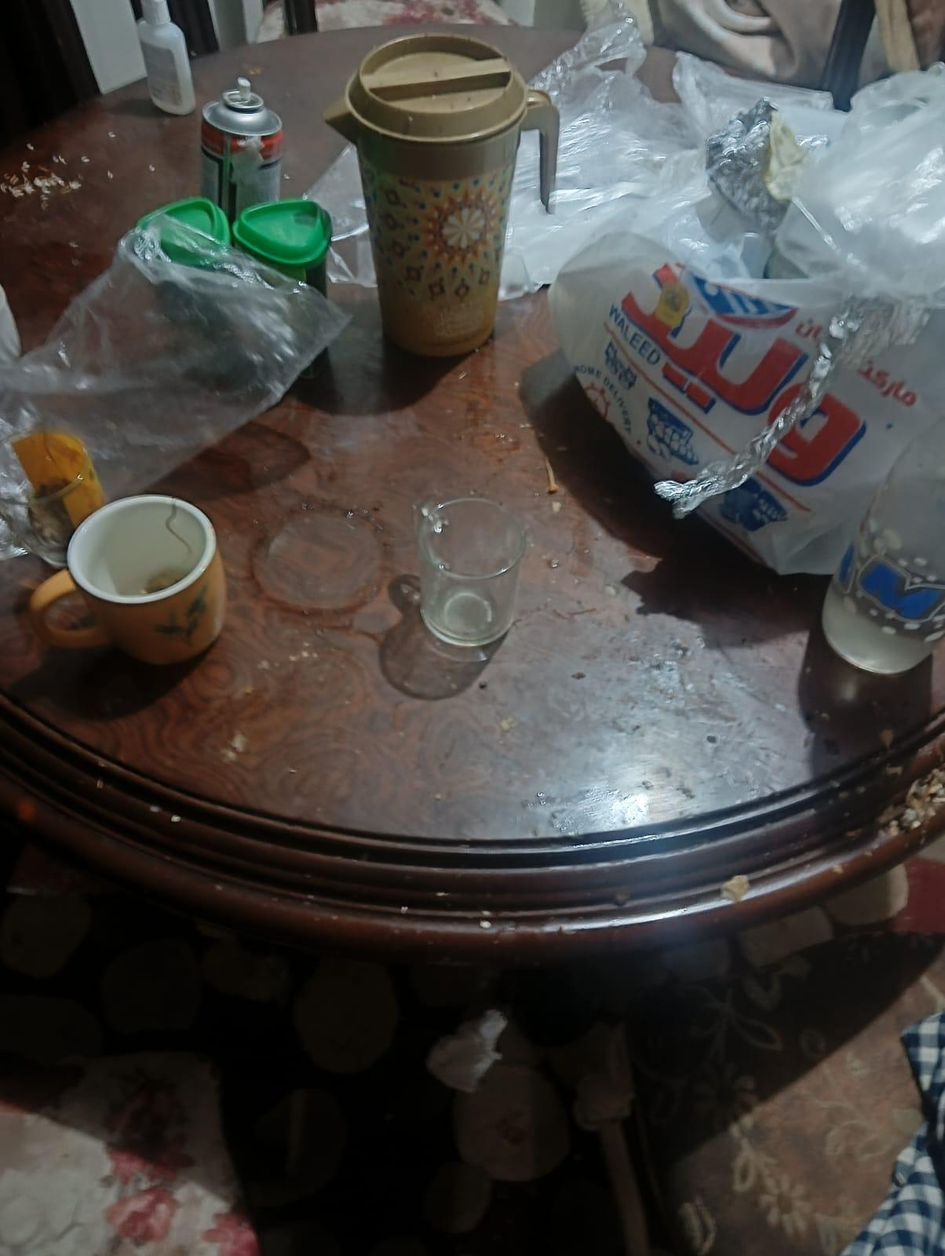Bottle: (816, 396, 945, 691)
cup: (29, 494, 226, 665), (414, 496, 525, 648), (71, 506, 215, 606), (0, 433, 103, 566), (433, 513, 509, 572)
